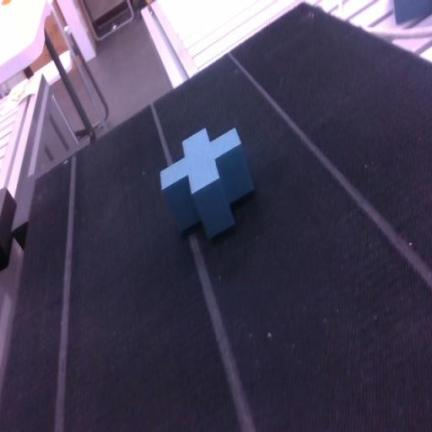cross: (161, 129, 253, 237)
